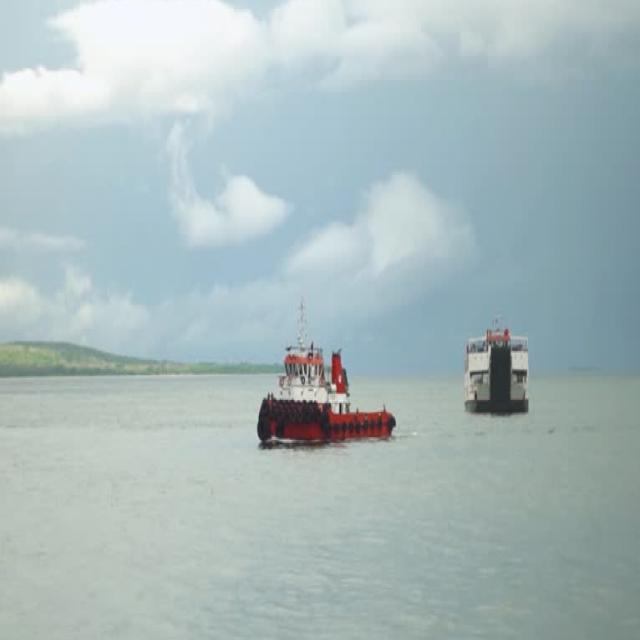fishing boat: (252, 314, 401, 476), (467, 308, 542, 418)
